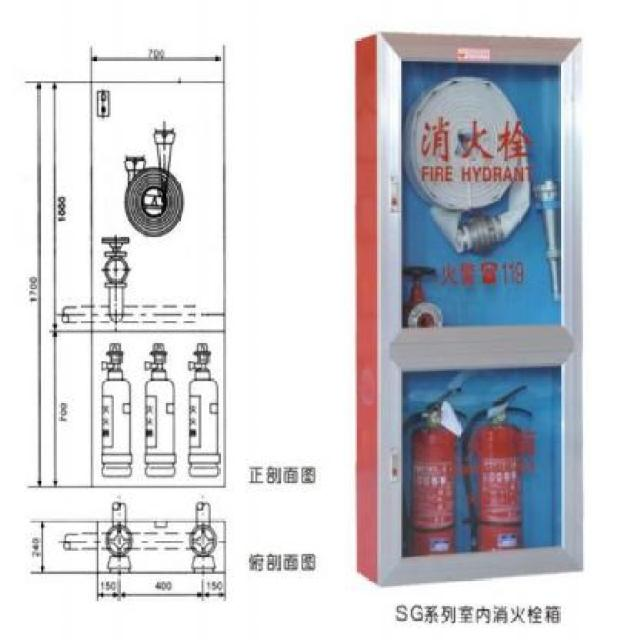firehydrant: (351, 28, 587, 592)
